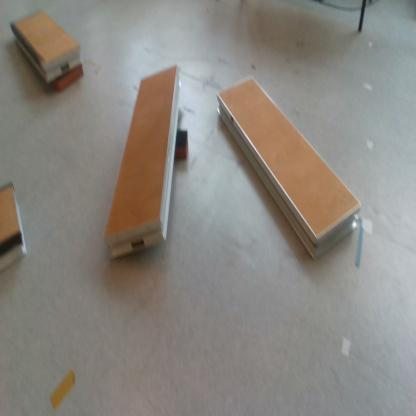Stairs: (216, 77, 365, 263), (104, 62, 183, 264), (11, 6, 85, 89), (1, 180, 28, 277)
